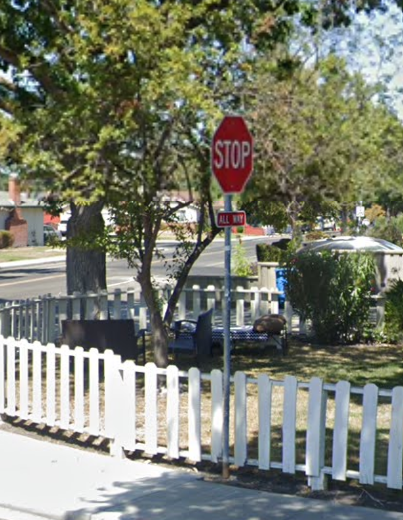stop_sign: (212, 118, 254, 192)
